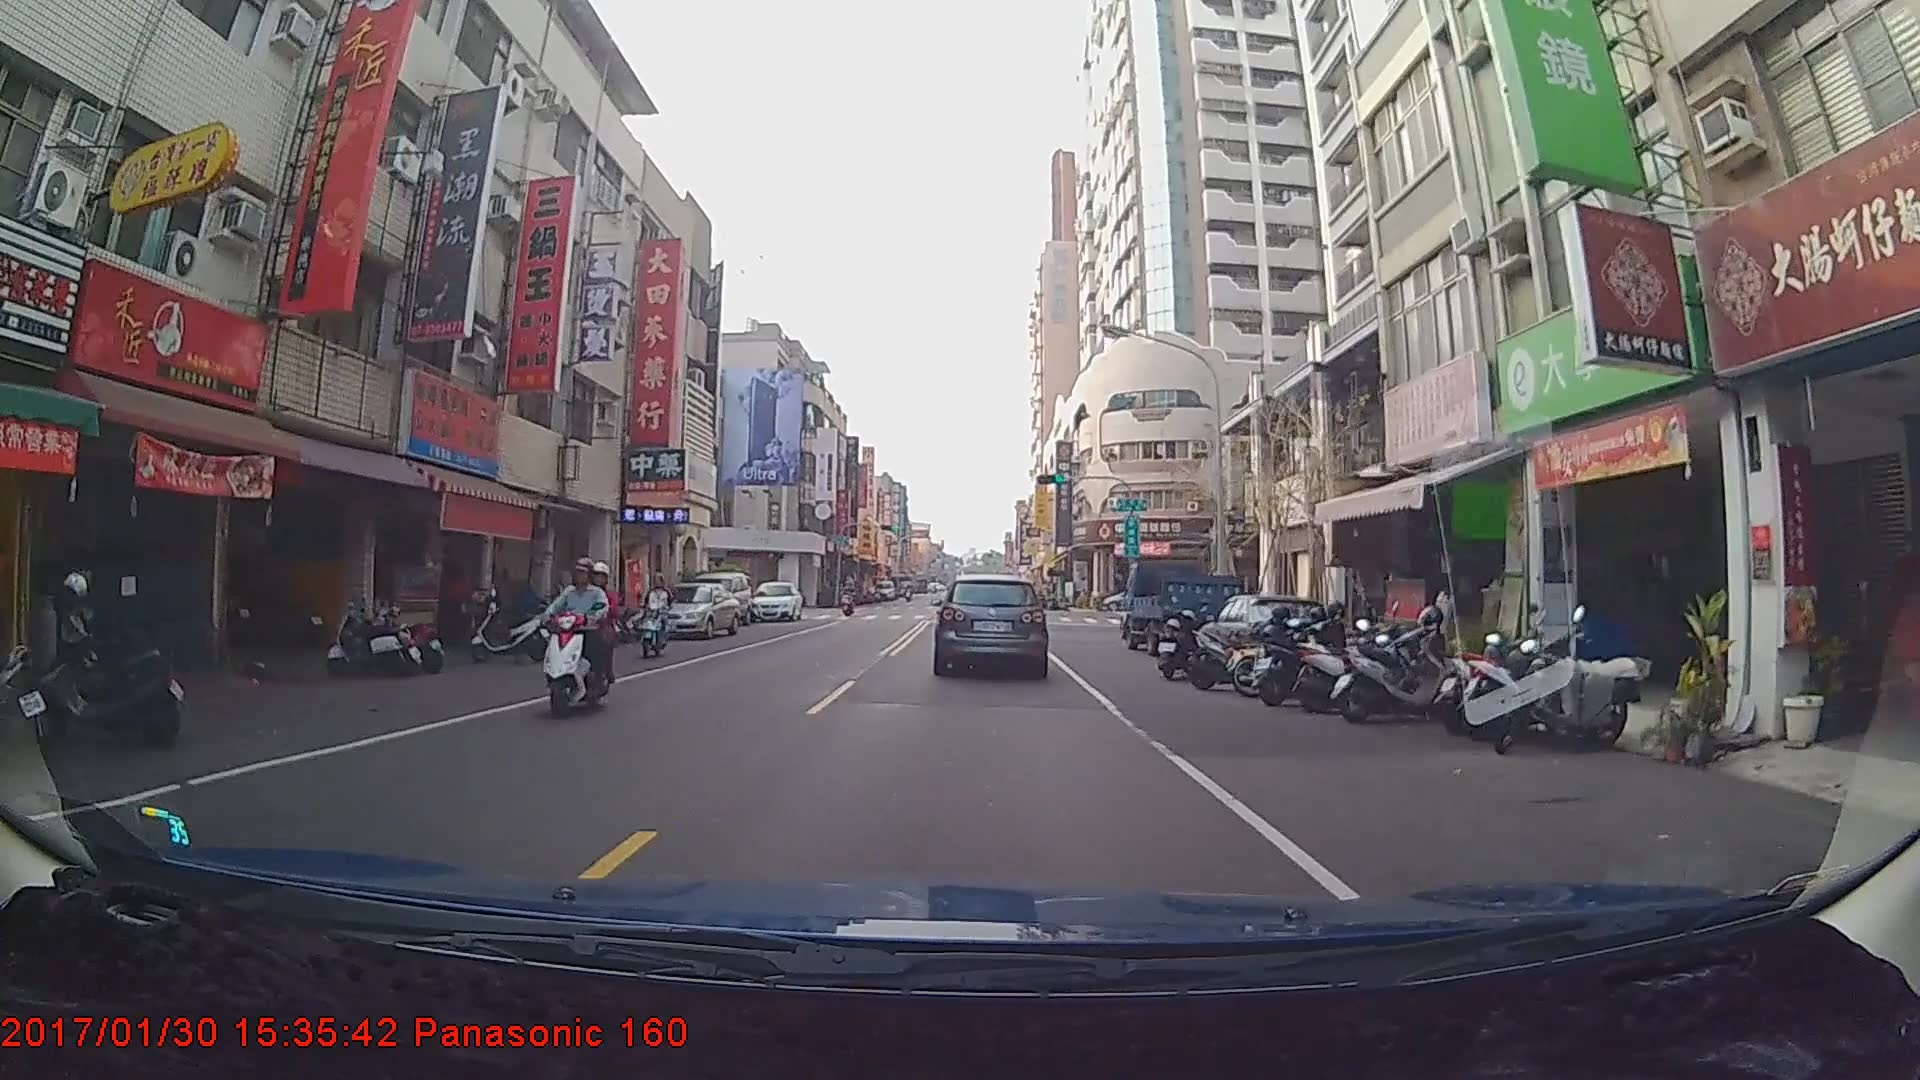rider: (536, 562, 620, 723), (644, 576, 675, 665), (839, 578, 859, 616)
vehicle: (1119, 559, 1246, 651), (934, 573, 1047, 675), (642, 583, 742, 639), (683, 569, 753, 627), (748, 576, 801, 621)
